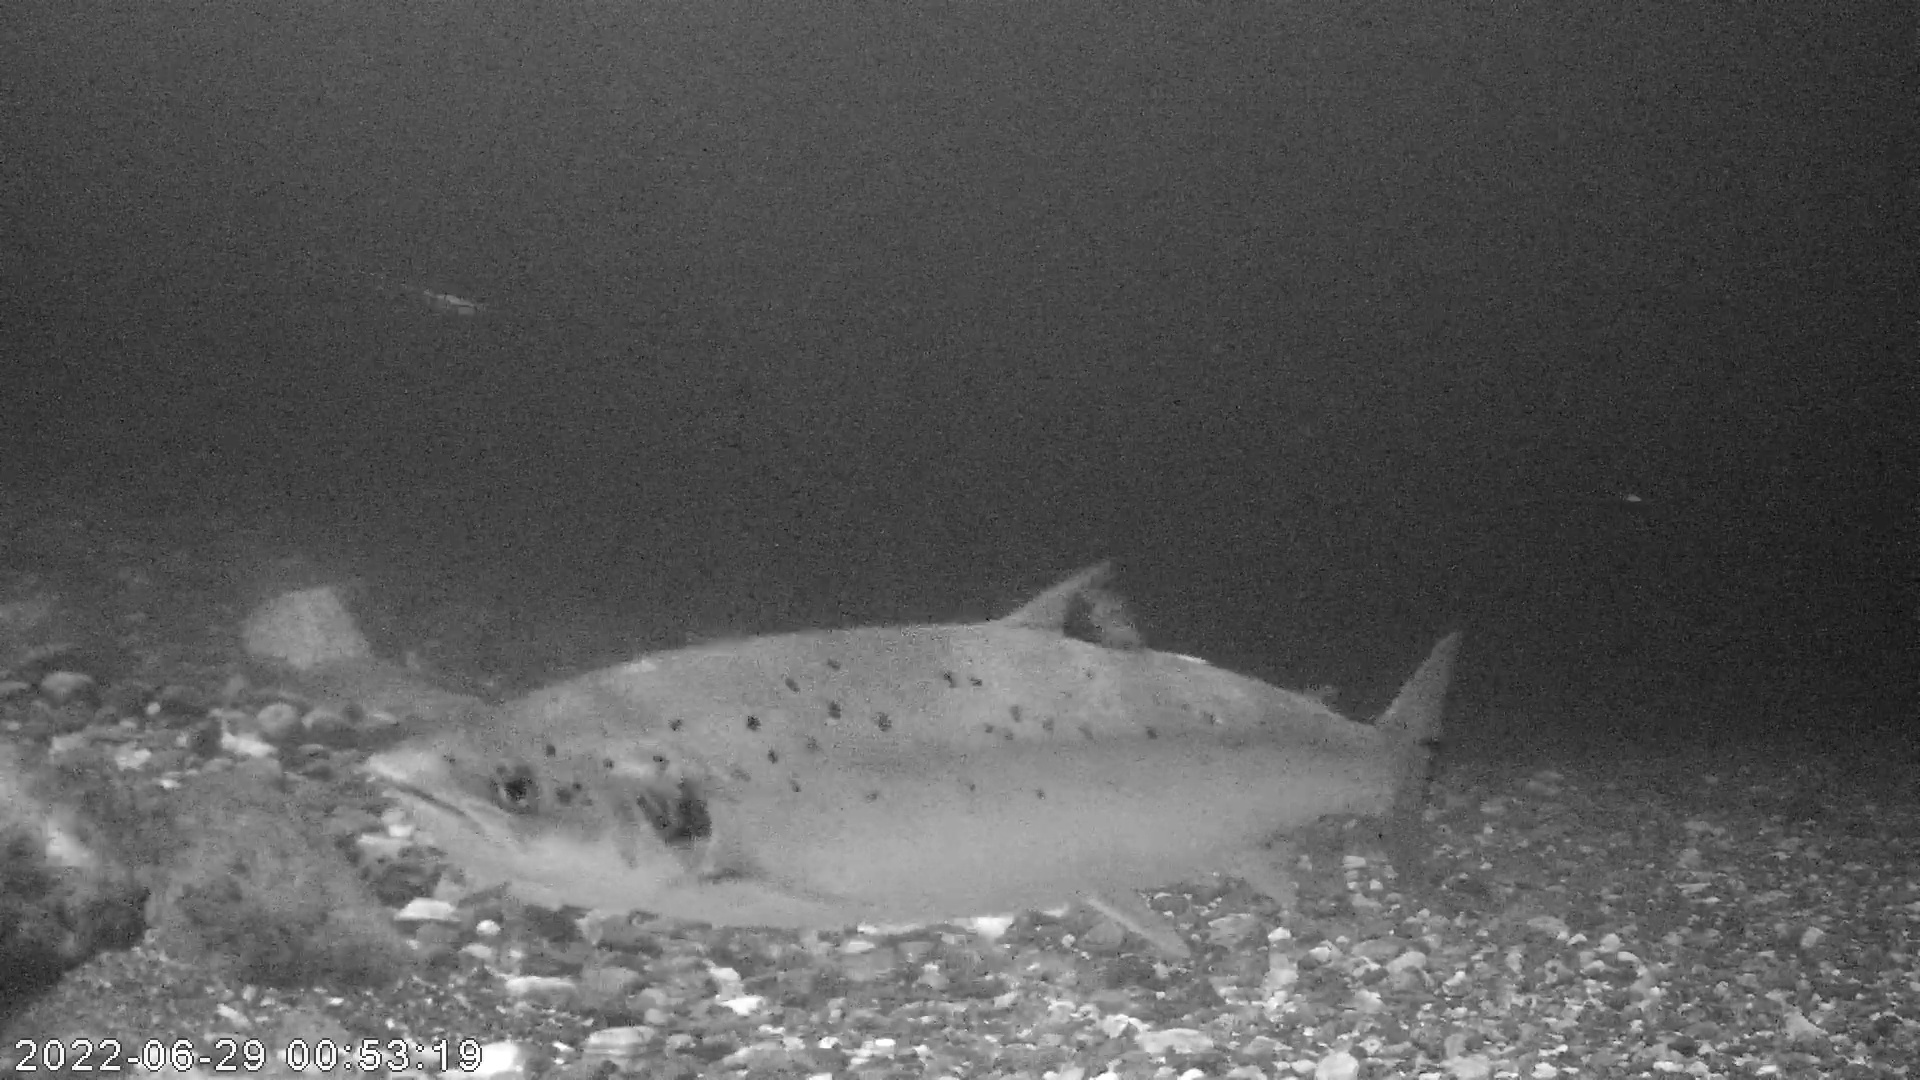salmon: (357, 549, 1466, 963)
